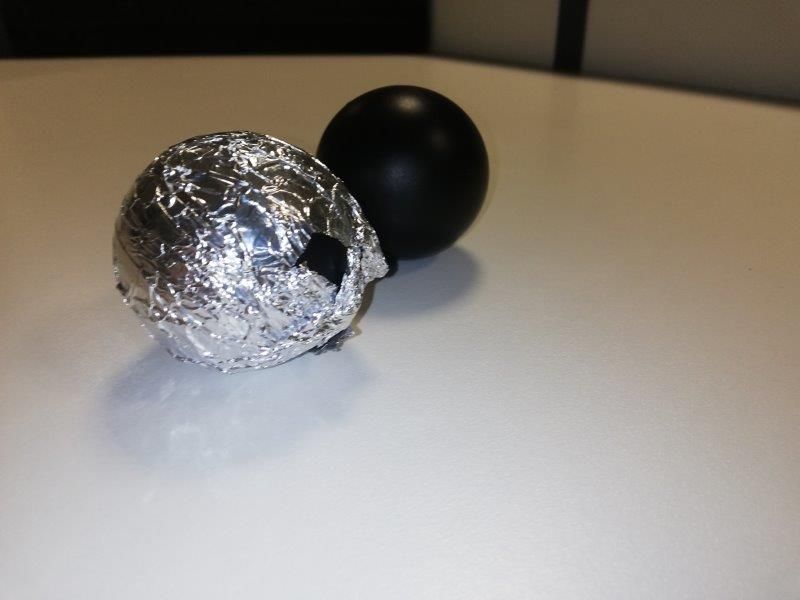bianca: (111, 130, 370, 369)
nera: (320, 82, 492, 258)
